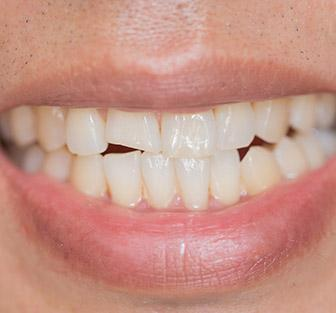Fractured Teeth: (105, 106, 161, 153)
